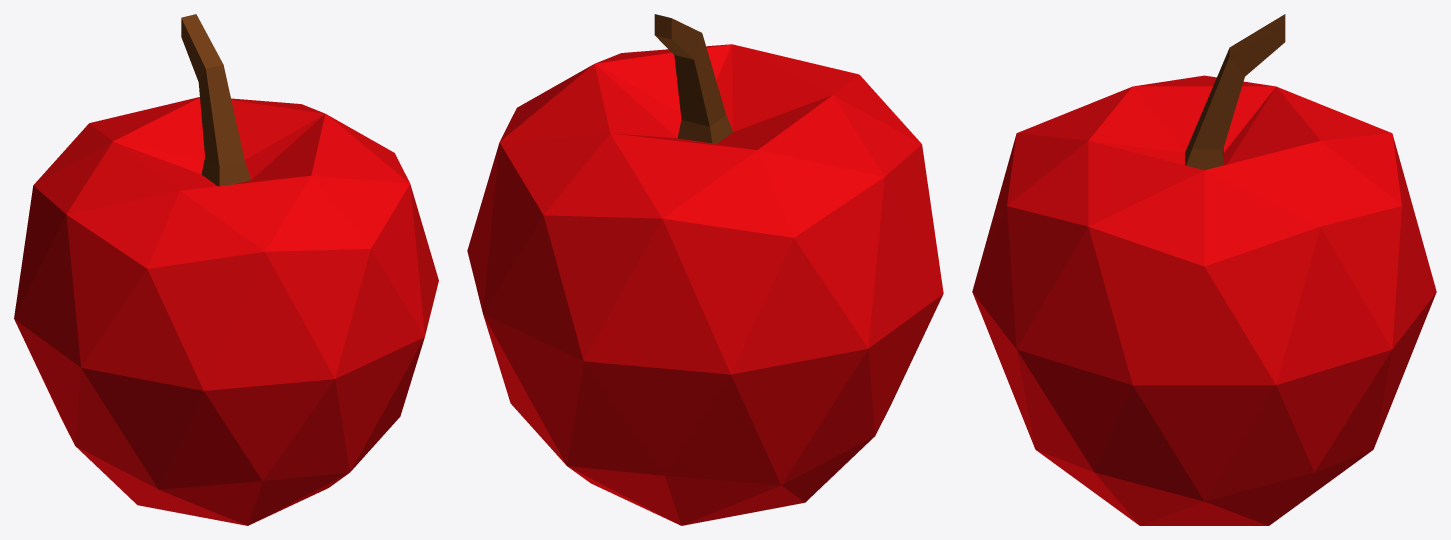
File: Apple.fbx
3 views of the same model, side by side, from view 1: azimuth 30°, elevation 25°; view 2: azimuth 150°, elevation 25°; view 3: azimuth 270°, elevation 25° (orthographic). The views are drawn at different scales.
Visible parts, largest first — view 1: Apple; view 2: Apple; view 3: Apple.
Boxes of the visible parts, x1,y1,x2,y2 form: Apple: (14,14,438,525); Apple: (467,14,943,525); Apple: (972,14,1436,525).
Size of the model in its own units: 122 by 143 by 128.
